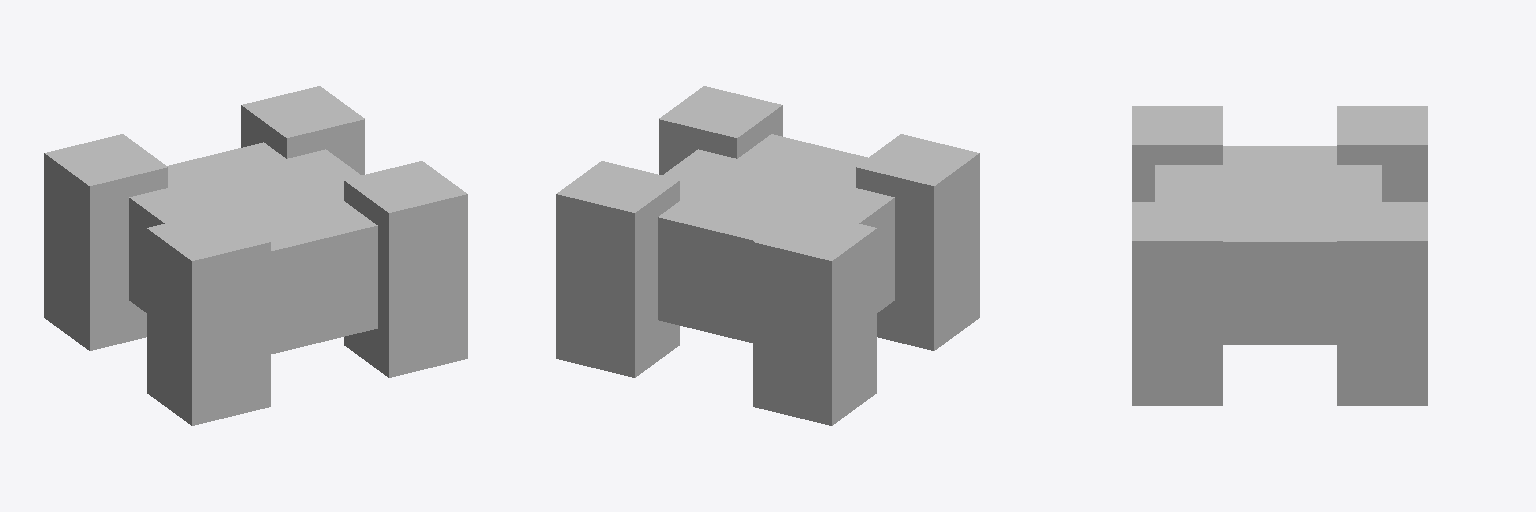
The model's file is gorgomite.obj.
3 renders of one model, left to right at view 1: azimuth 30°, elevation 25°; view 2: azimuth 150°, elevation 25°; view 3: azimuth 270°, elevation 25°, orthographic.
Visible parts, largest first — view 1: Body, FrontRightLeg, FrontLeftLeg, BackRightLeg, BackLeftLeg; view 2: Body, BackRightLeg, BackLeftLeg, FrontRightLeg, FrontLeftLeg; view 3: Body, FrontLeftLeg, BackLeftLeg, BackRightLeg, FrontRightLeg.
Part boxes in pixels (x1,y1,x2,y2): Body: (129, 142, 377, 353); FrontRightLeg: (147, 209, 270, 425); FrontLeftLeg: (344, 161, 467, 377); BackRightLeg: (44, 134, 167, 350); BackLeftLeg: (241, 86, 364, 174); Body: (658, 134, 894, 342); BackRightLeg: (753, 209, 876, 425); BackLeftLeg: (556, 161, 679, 377); FrontRightLeg: (856, 134, 979, 350); FrontLeftLeg: (659, 86, 782, 174); Body: (1155, 146, 1381, 344); FrontLeftLeg: (1132, 202, 1222, 405); BackLeftLeg: (1337, 202, 1427, 405); BackRightLeg: (1337, 106, 1427, 201); FrontRightLeg: (1132, 106, 1222, 201).
Size of the model in its own units: 1.43 by 0.8192 by 1.33.